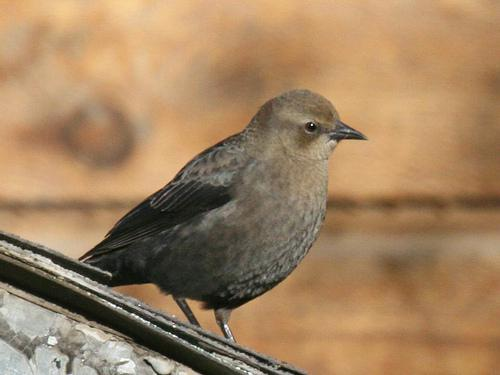009.Brewer_Blackbird: (69, 88, 369, 349)
